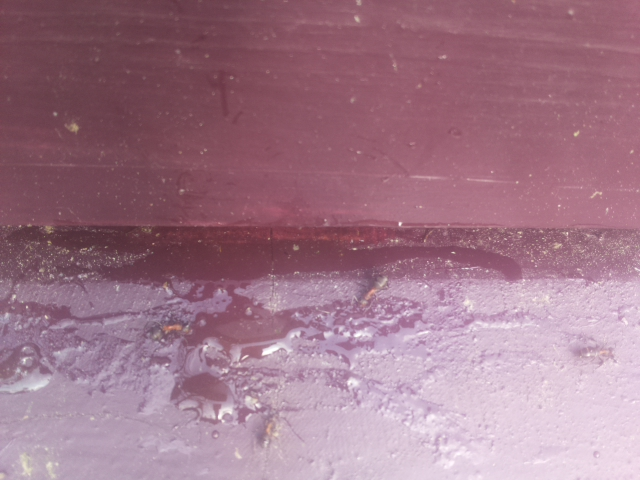ant: (354, 262, 390, 316), (145, 316, 197, 347), (256, 413, 280, 453)
